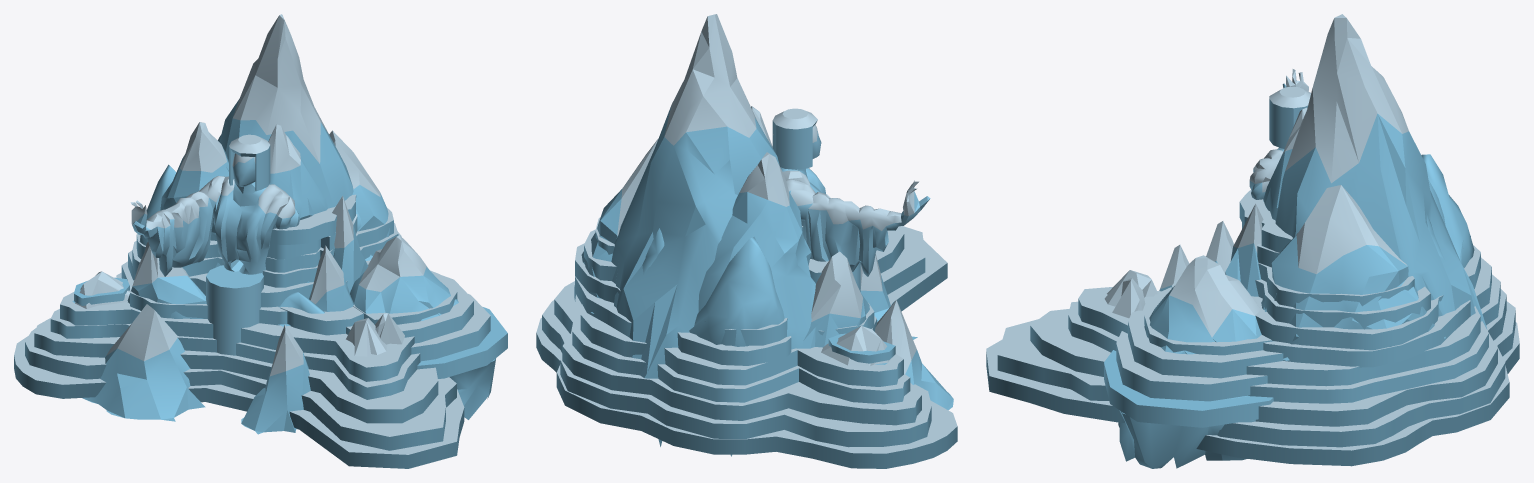
File: SM_IP_Mountain.fbx
The picture shows the model from 3 angles, left to right: view 1: azimuth 30°, elevation 25°; view 2: azimuth 150°, elevation 25°; view 3: azimuth 270°, elevation 25°; orthographic projection. The views are drawn at different scales.
Parts seen in each view (by area): view 1: MAYA_Ice_Mountain1:polySurface48; view 2: MAYA_Ice_Mountain1:polySurface48; view 3: MAYA_Ice_Mountain1:polySurface48.
Part boxes in pixels (x1=…): MAYA_Ice_Mountain1:polySurface48: x1=14, y1=14, x2=507, y2=468; MAYA_Ice_Mountain1:polySurface48: x1=536, y1=14, x2=957, y2=468; MAYA_Ice_Mountain1:polySurface48: x1=986, y1=14, x2=1519, y2=468.
Size of the model in its own units: 5.71 by 5.01 by 6.05.
